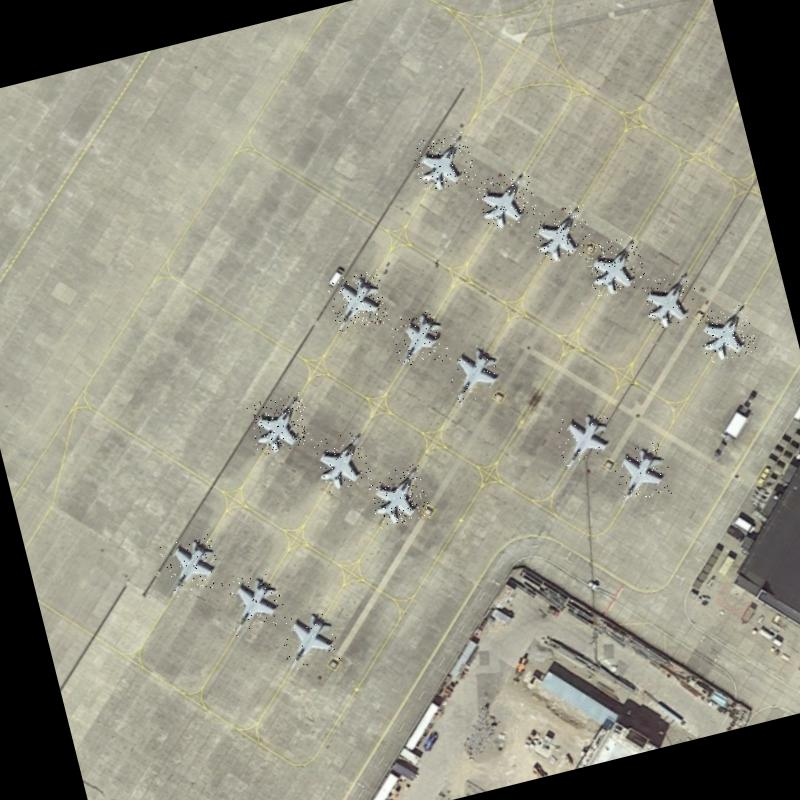A16: (222, 568, 288, 636), (440, 340, 507, 406), (472, 168, 540, 233), (246, 391, 314, 456), (365, 463, 431, 529), (156, 532, 222, 598), (276, 606, 342, 672), (527, 202, 595, 266), (552, 407, 618, 472), (325, 268, 390, 334), (410, 130, 477, 194), (582, 234, 648, 298), (638, 268, 702, 333), (610, 440, 674, 505), (388, 305, 450, 369), (310, 430, 372, 494), (695, 302, 758, 364)
